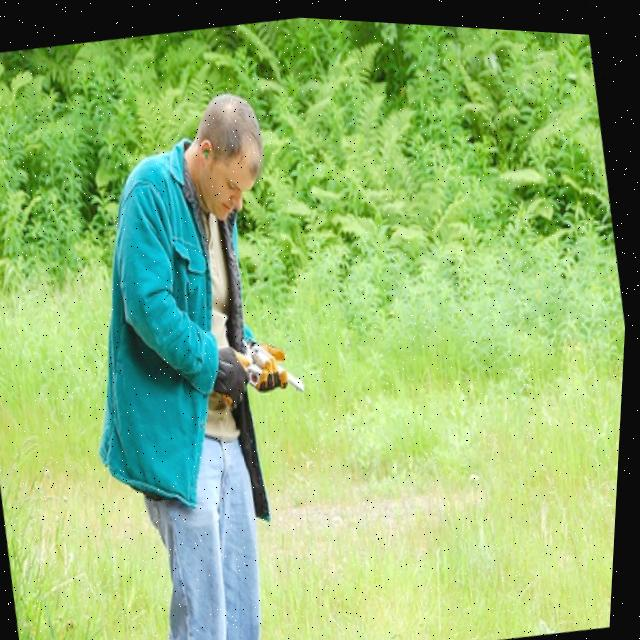pistol: (242, 321, 311, 396)
